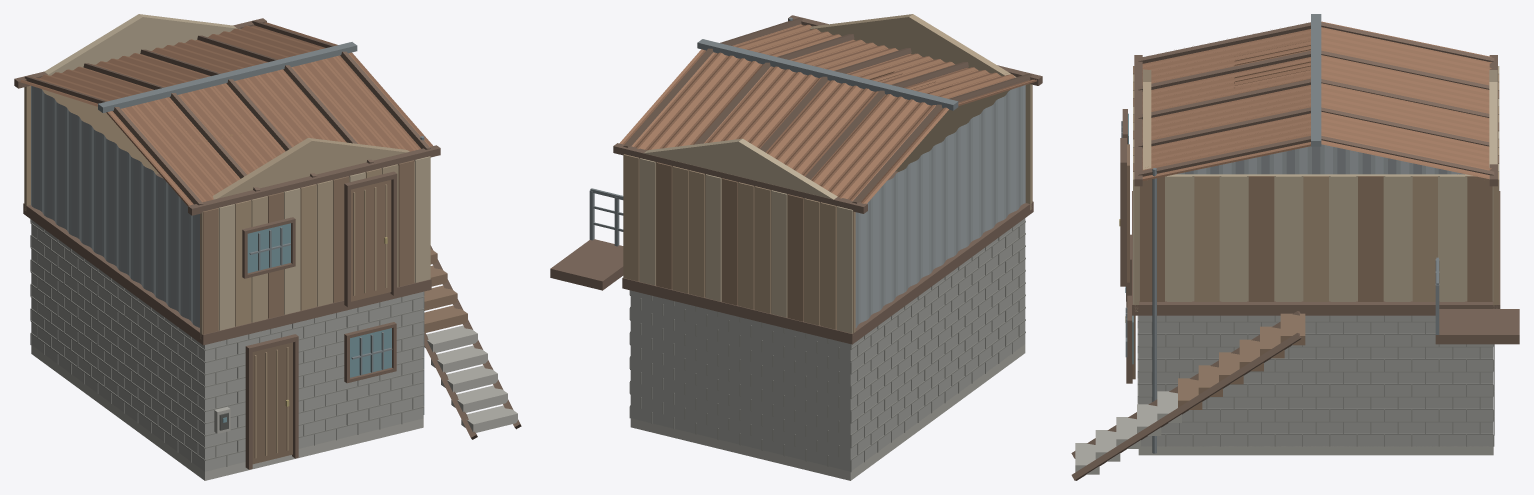
Rendered from SH07_External_Stair_Two_Family.glb.
3 renders of one model, left to right at view 1: azimuth 30°, elevation 25°; view 2: azimuth 150°, elevation 25°; view 3: azimuth 270°, elevation 25°, orthographic. The views are drawn at different scales.
Parts seen in each view (by area): view 1: 571_Upper_left_sheet, 645_Main_roof_right_sheet, 232_Left_lower_concrete, 002_Front_lower_concrete, 644_Main_roof_left_sheet, 540_Upper_floor, 643_Rear_gable, 642_Front_gable, 595_Upper_door_door, 586_Lower_door_door, 001_Ground_slab, 646_Main_roof_ridge_cap (+36 smaller); view 2: 117_Rear_lower_concrete, 644_Main_roof_left_sheet, 571_Upper_left_sheet, 232_Left_lower_concrete, 645_Main_roof_right_sheet, 540_Upper_floor, 642_Front_gable, 643_Rear_gable, 001_Ground_slab, 646_Main_roof_ridge_cap, 541_Upper_front_backing, 635_Upper_stair_landing (+27 smaller); view 3: 386_Right_lower_concrete, 644_Main_roof_left_sheet, 645_Main_roof_right_sheet, 540_Upper_floor, 572_Upper_right_backing, 571_Upper_left_sheet, 001_Ground_slab, 578_Upper_right_plank_06, 581_Upper_right_plank_09, 574_Upper_right_plank_02, 576_Upper_right_plank_04, 577_Upper_right_plank_05 (+52 smaller).
Boxes of the visible parts, bbox=[...] form: 571_Upper_left_sheet: bbox=[31, 85, 199, 327]; 645_Main_roof_right_sheet: bbox=[106, 52, 432, 205]; 232_Left_lower_concrete: bbox=[31, 222, 213, 471]; 002_Front_lower_concrete: bbox=[200, 291, 423, 471]; 644_Main_roof_left_sheet: bbox=[20, 22, 337, 106]; 540_Upper_floor: bbox=[23, 173, 431, 345]; 643_Rear_gable: bbox=[44, 14, 240, 75]; 642_Front_gable: bbox=[212, 138, 409, 199]; 595_Upper_door_door: bbox=[351, 180, 391, 301]; 586_Lower_door_door: bbox=[252, 342, 292, 464]; 001_Ground_slab: bbox=[31, 345, 423, 480]; 646_Main_roof_ridge_cap: bbox=[98, 42, 357, 112]; 117_Rear_lower_concrete: bbox=[630, 290, 855, 471]; 644_Main_roof_left_sheet: bbox=[619, 49, 948, 203]; 571_Upper_left_sheet: bbox=[855, 85, 1025, 327]; 232_Left_lower_concrete: bbox=[842, 218, 1025, 470]; 645_Main_roof_right_sheet: bbox=[732, 24, 1036, 105]; 540_Upper_floor: bbox=[622, 171, 1033, 344]; 642_Front_gable: bbox=[810, 14, 1016, 77]; 643_Rear_gable: bbox=[644, 138, 837, 199]; 001_Ground_slab: bbox=[630, 344, 1025, 480]; 646_Main_roof_ridge_cap: bbox=[697, 39, 958, 110]; 541_Upper_front_backing: bbox=[895, 84, 1032, 209]; 635_Upper_stair_landing: bbox=[550, 239, 623, 290]; 386_Right_lower_concrete: bbox=[1138, 315, 1493, 446]; 644_Main_roof_left_sheet: bbox=[1321, 21, 1491, 179]; 645_Main_roof_right_sheet: bbox=[1142, 29, 1310, 180]; 540_Upper_floor: bbox=[1132, 191, 1500, 315]; 572_Upper_right_backing: bbox=[1139, 174, 1493, 301]; 571_Upper_left_sheet: bbox=[1176, 144, 1464, 174]; 001_Ground_slab: bbox=[1138, 446, 1493, 455]; 578_Upper_right_plank_06: bbox=[1330, 176, 1356, 301]; 581_Upper_right_plank_09: bbox=[1248, 176, 1274, 301]; 574_Upper_right_plank_02: bbox=[1440, 176, 1465, 301]; 576_Upper_right_plank_04: bbox=[1385, 176, 1410, 301]; 577_Upper_right_plank_05: bbox=[1358, 176, 1383, 301].
Bounding box in the file's own units: 5.55 × 5.53 × 6.94.
